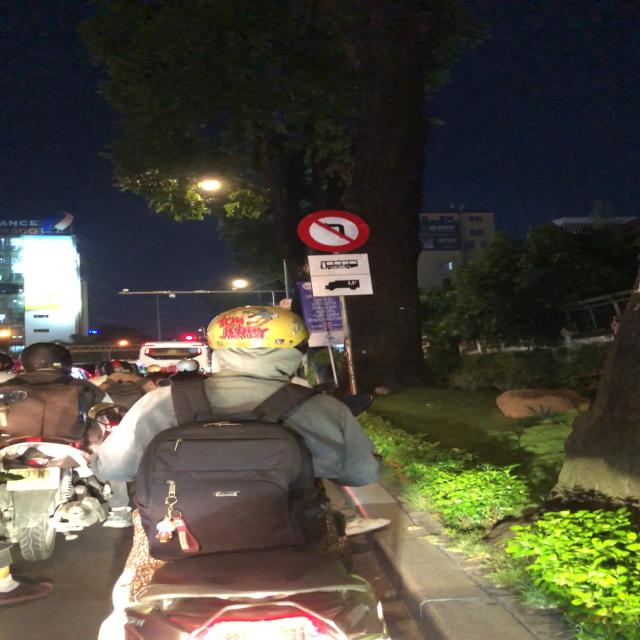Bien bao cam re trai: (293, 209, 369, 255)
